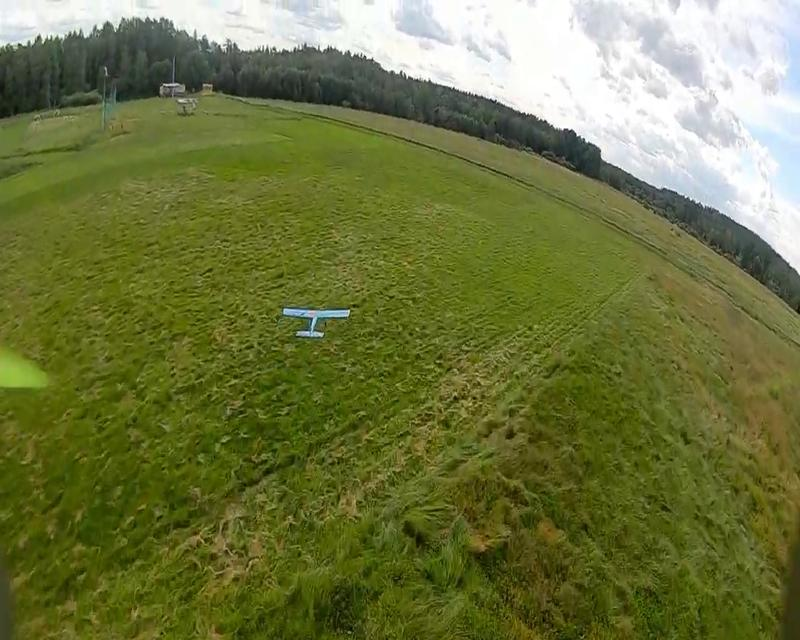UAV: (284, 307, 350, 338)
